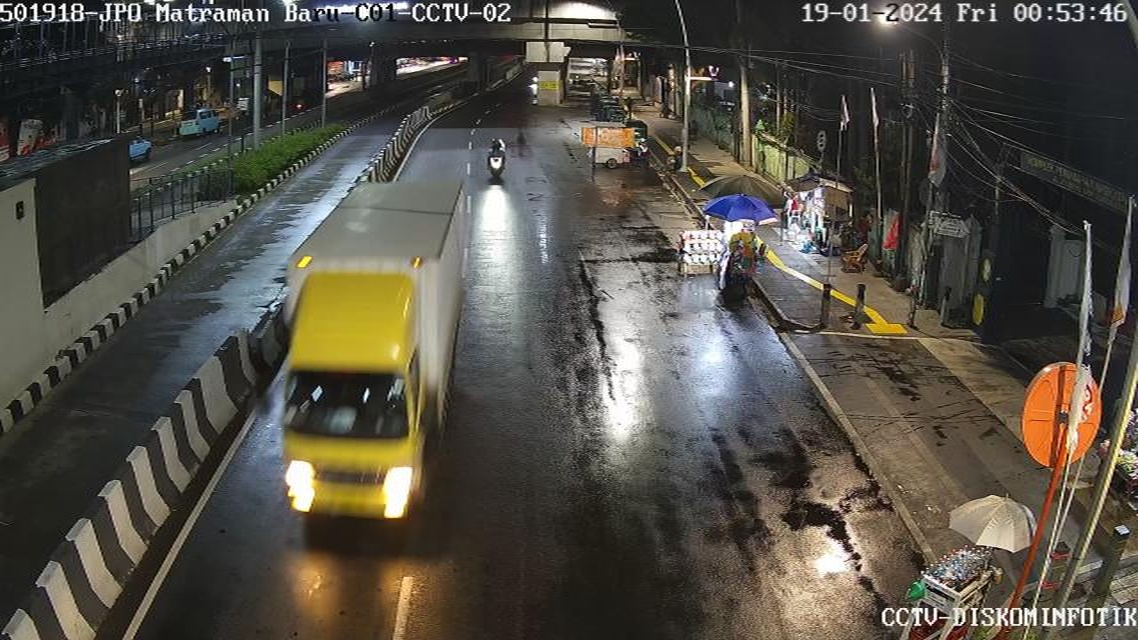Gerobak: (894, 547, 996, 633), (578, 114, 645, 179)
